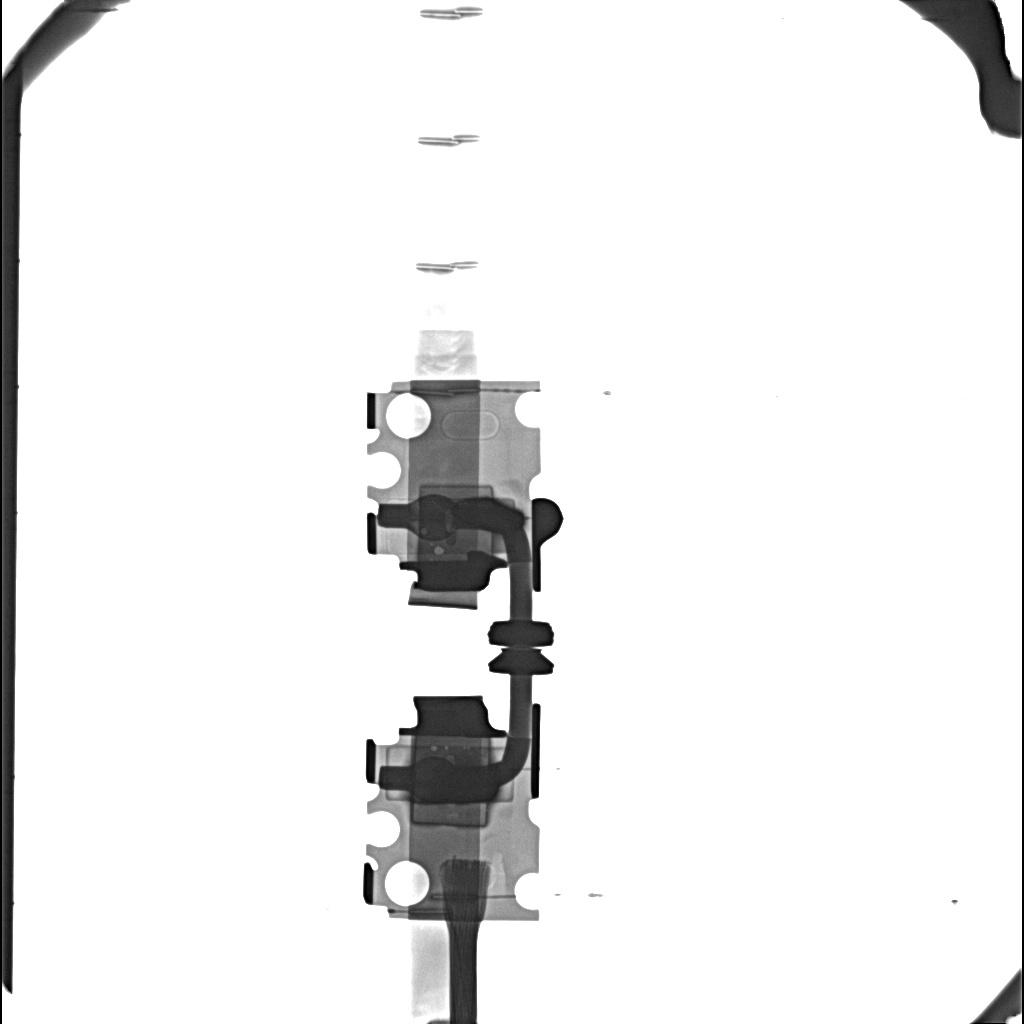defect: (419, 495, 525, 539), (413, 756, 499, 803), (410, 803, 490, 828), (419, 485, 493, 495), (434, 545, 443, 555), (431, 745, 439, 751)
